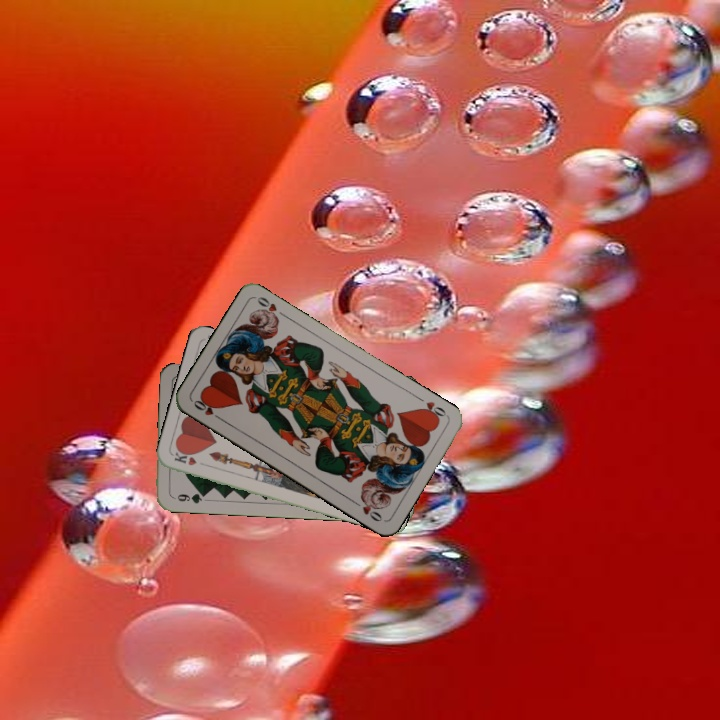G9: (168, 489, 209, 506)
HK: (170, 448, 210, 469)
HO: (189, 395, 225, 423), (416, 397, 450, 423)
